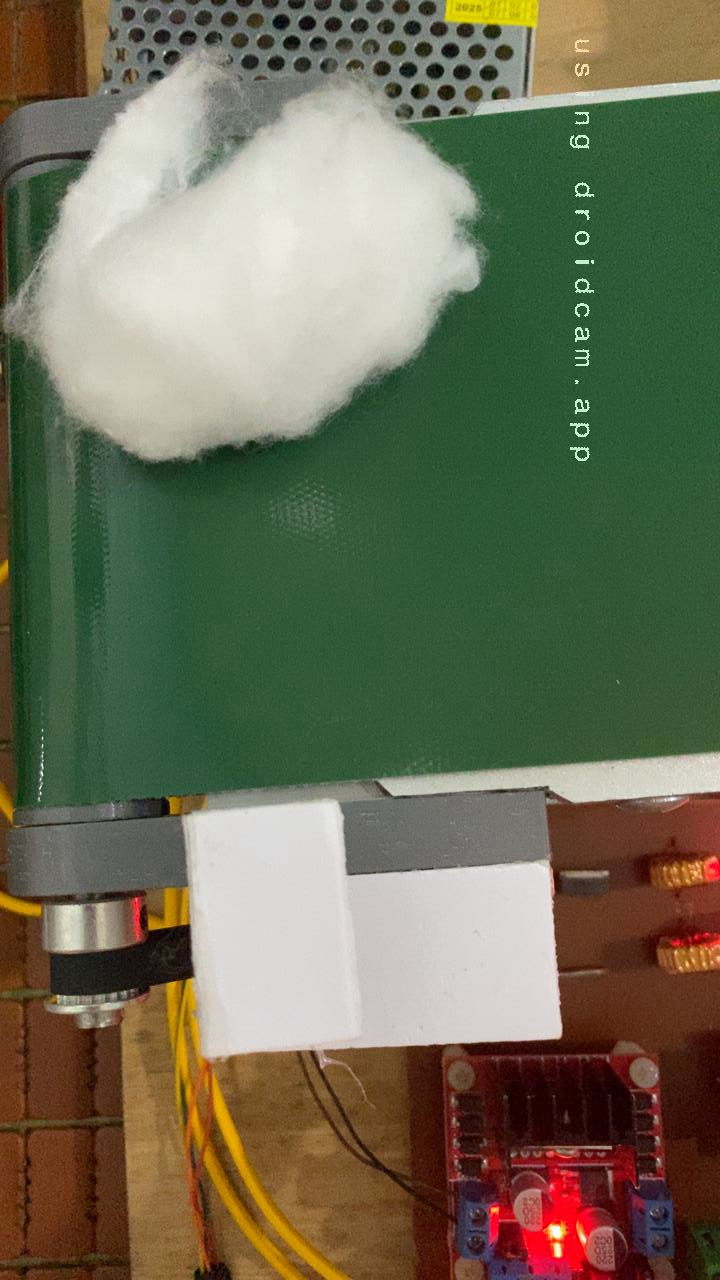cotton: (0, 115, 489, 782)
